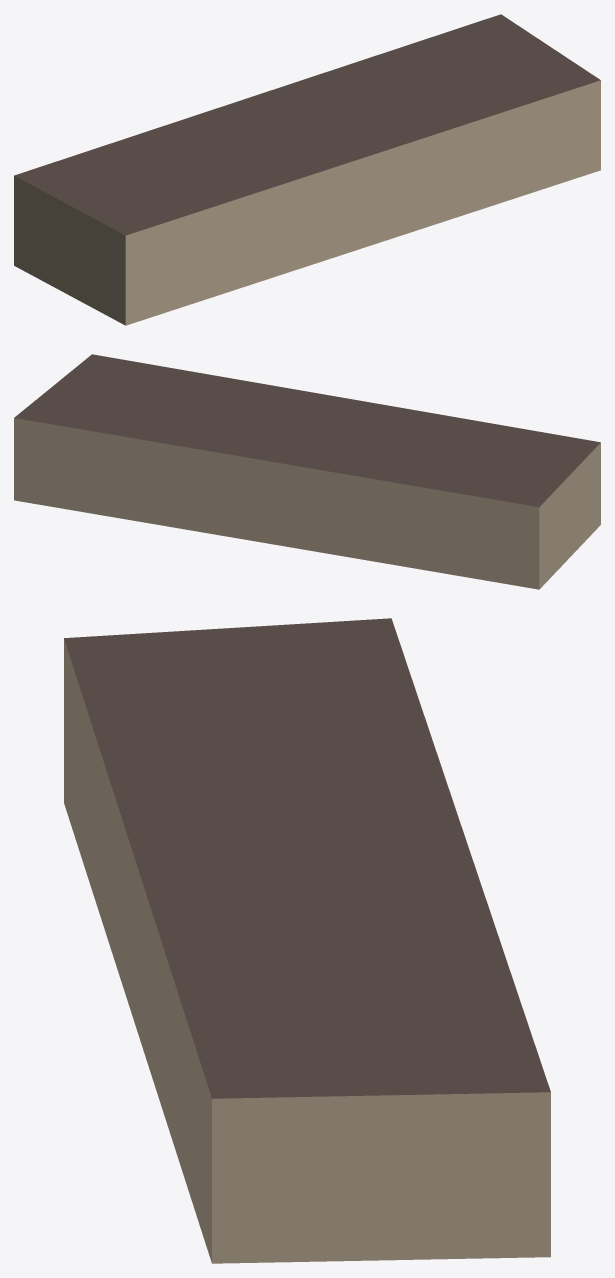
3 views of the same model, one above another, from view 1: azimuth 30°, elevation 25°; view 2: azimuth 150°, elevation 25°; view 3: azimuth 270°, elevation 25° (orthographic). The views are drawn at different scales.
Visible parts, largest first — view 1: HP-w859078980; view 2: HP-w859078980; view 3: HP-w859078980.
Boxes of the visible parts, x1,y1,x2,y2 form: HP-w859078980: (14, 14, 600, 325); HP-w859078980: (14, 354, 600, 589); HP-w859078980: (64, 618, 550, 1263).
Size of the model in its own units: 56.22 by 9 by 24.08.
